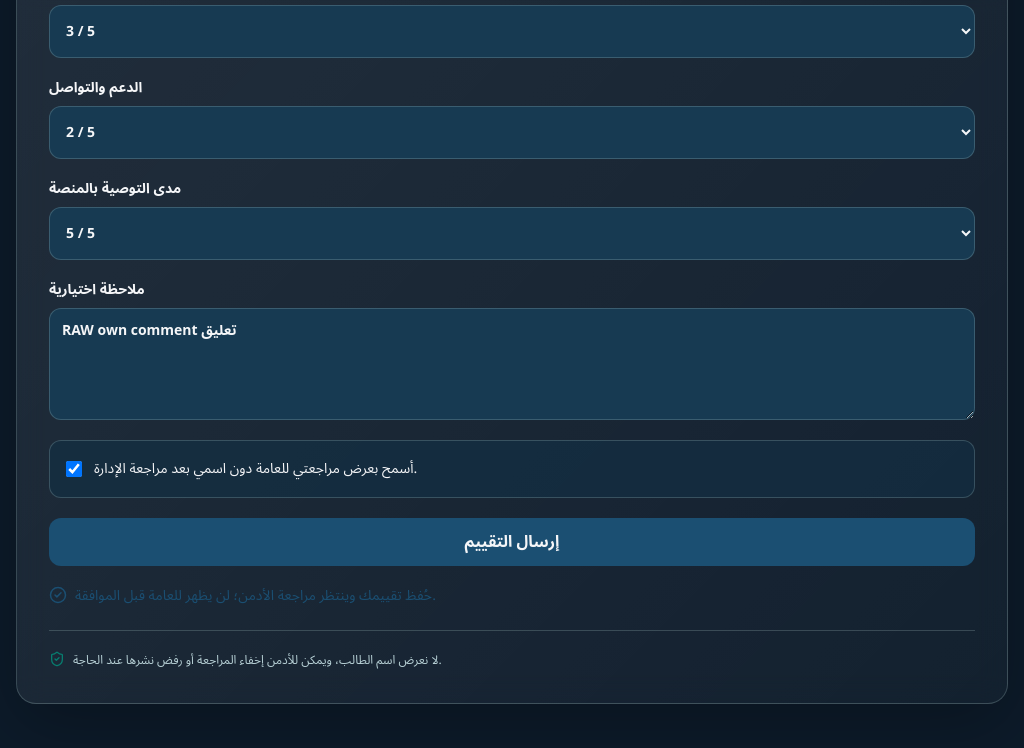
Test: T7-A6.3 ar UI contracts › rating save fallback keeps payload, disabled guard and errors
(page scrolled)
Replace the text in the text box showing "RAW own comment تعليق" with "RAW edited comment تعليق": (512,364) [49,308,975,420]
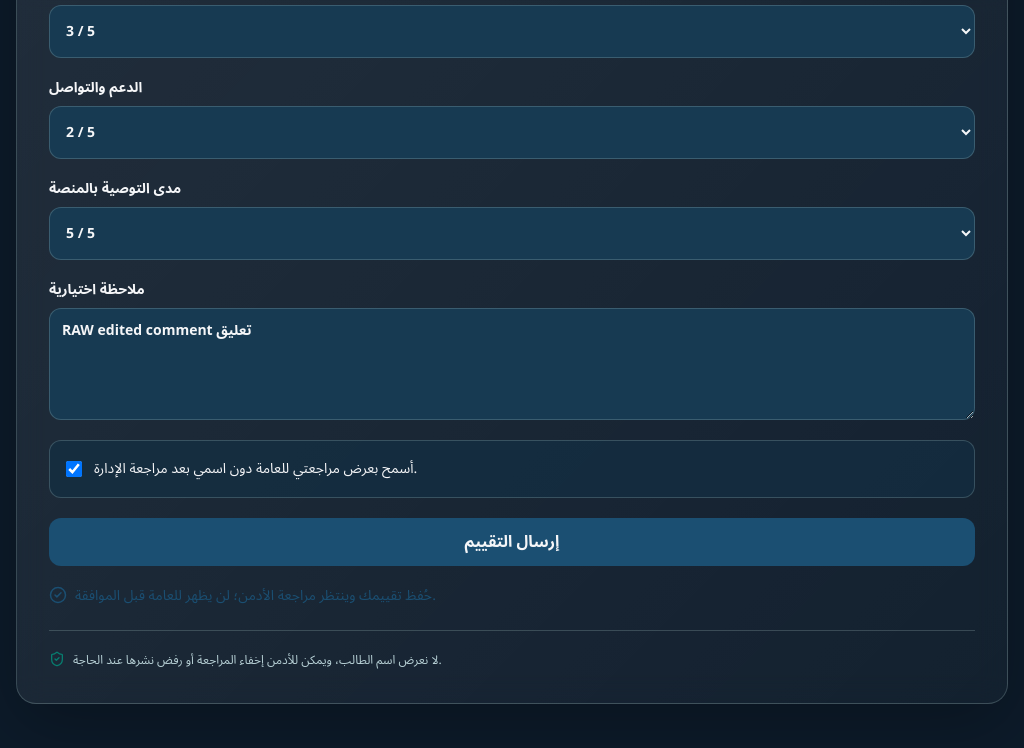
Click the button "إرسال التقييم": (512,542) [49,518,975,566]
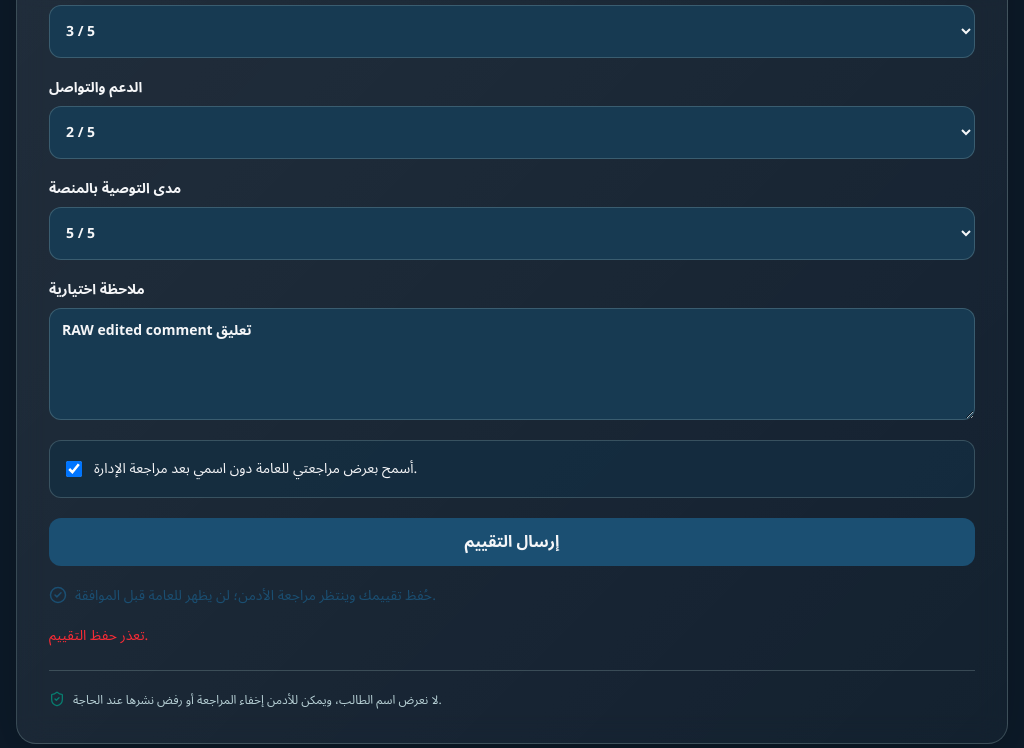
Now the message "تعذر حفظ التقييم." is shown, box [49,621,148,650]
